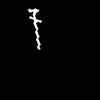double_crochet: (29, 9, 41, 48)
